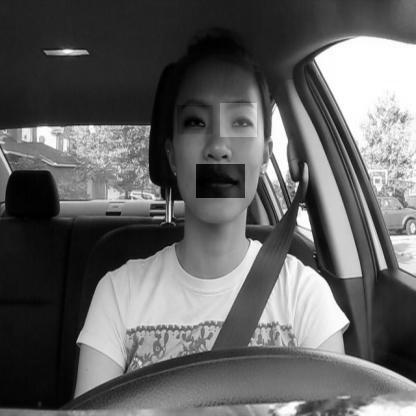seatbelt: (149, 29, 288, 350)
